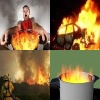fire: (57, 2, 99, 49), (60, 65, 94, 85), (12, 28, 39, 49), (27, 65, 49, 85)
